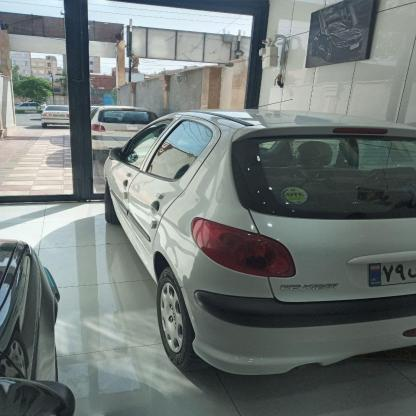Car: (99, 104, 416, 396), (79, 98, 162, 166), (40, 108, 72, 138)
